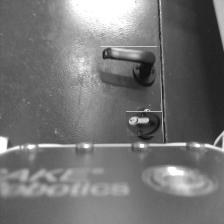Door Handle: (101, 46, 157, 87)
Lock: (129, 108, 160, 139)
